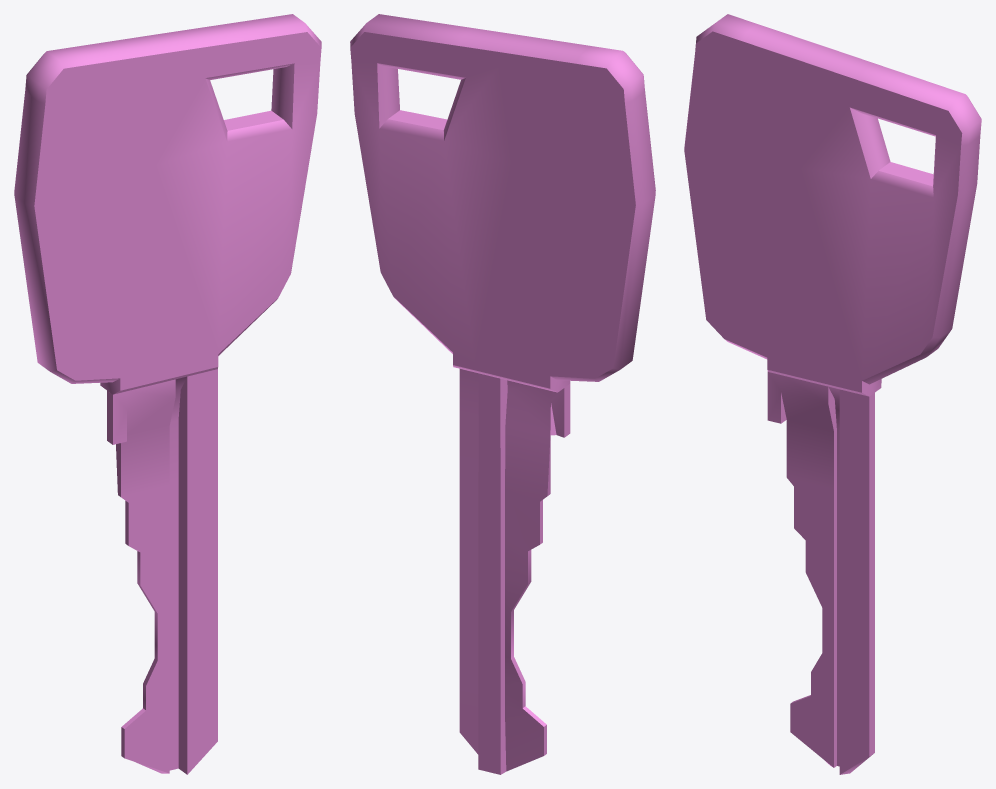
The model's file is Keys_32.FBX.
The picture shows the model from 3 angles, left to right: view 1: azimuth 30°, elevation 25°; view 2: azimuth 150°, elevation 25°; view 3: azimuth 330°, elevation 25°; orthographic projection. The views are drawn at different scales.
Visible parts, largest first — view 1: Keys_32; view 2: Keys_32; view 3: Keys_32.
Boxes of the visible parts, left/top/right/bottom form: Keys_32: left=14, top=14, right=321, bottom=774; Keys_32: left=350, top=14, right=655, bottom=774; Keys_32: left=684, top=14, right=981, bottom=774.
Bounding box in the file's own units: 0.9122 × 2.21 × 0.1075.
